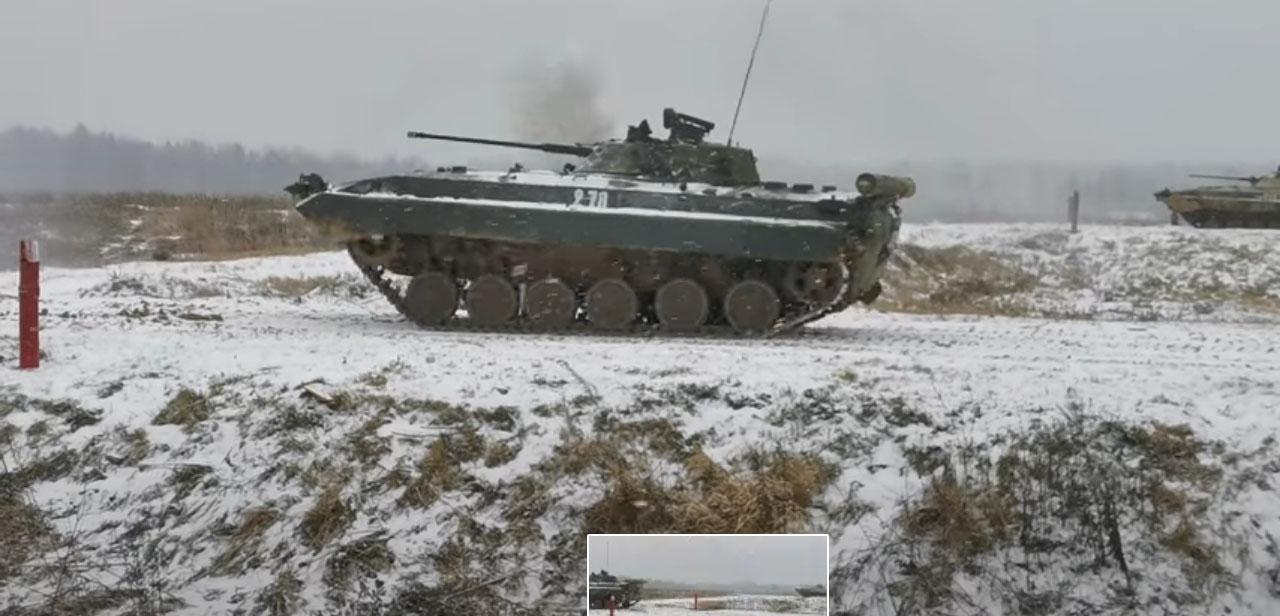tank: (278, 80, 916, 388), (1155, 154, 1280, 245), (582, 568, 652, 612)
